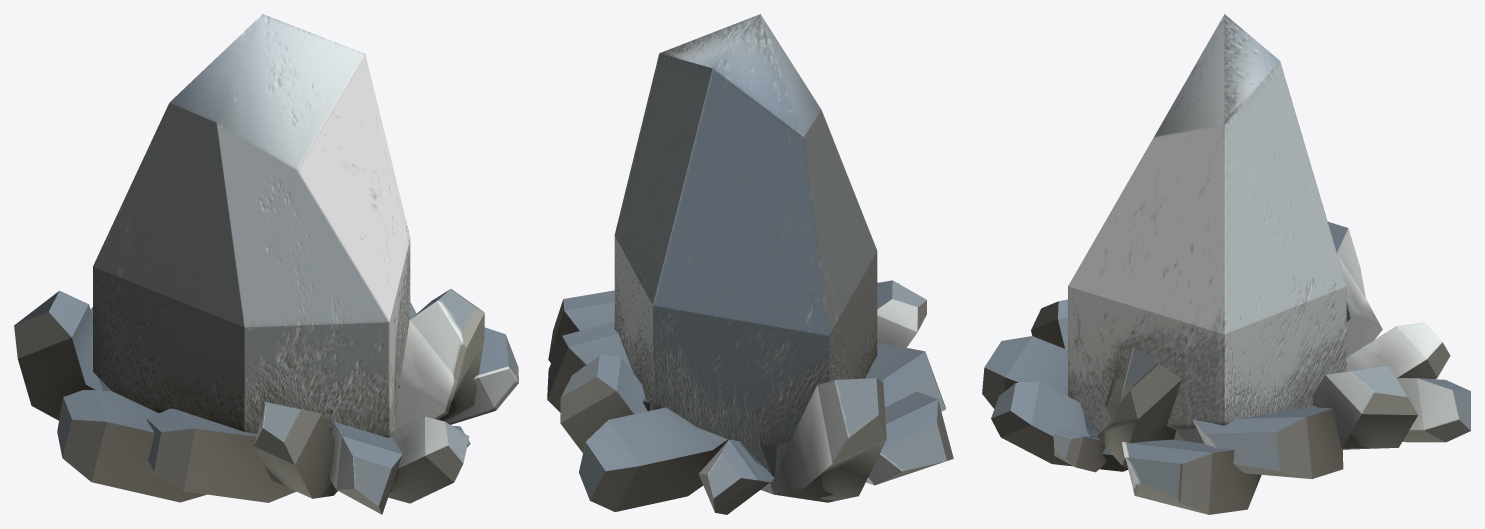
Rendered from CristalesGrandesTexReady.fbx.
The picture shows the model from 3 angles, left to right: view 1: azimuth 30°, elevation 25°; view 2: azimuth 150°, elevation 25°; view 3: azimuth 270°, elevation 25°; orthographic projection. The views are drawn at different scales.
Parts seen in each view (by area): view 1: CristalGrande, CristalBase_4, CristalBase_5, CristalBase_6, CristalBase_11, CristalBase_10, CristalBase_8, CristalBase_9, CristalBase_3; view 2: CristalGrande, CristalBase_11, CristalBase_13, CristalBase_1, CristalBase_5, CristalBase_12, CristalBase_2, CristalBase_6, CristalBase_10, CristalBase_3; view 3: CristalGrande, CristalBase_3, CristalBase_2, CristalBase_1, CristalBase_8, CristalBase_4, CristalBase_9, CristalBase_12, CristalBase_13, CristalBase_11, CristalBase_7, CristalBase_10.
Part boxes in pixels (x1,y1,x2,y2): CristalGrande: (93,14,410,438); CristalBase_4: (397,289,484,429); CristalBase_5: (57,390,206,502); CristalBase_6: (146,408,296,502); CristalBase_11: (14,290,111,420); CristalBase_10: (254,402,337,498); CristalBase_8: (388,416,469,503); CristalBase_9: (329,421,402,514); CristalBase_3: (446,327,518,424); CristalGrande: (614,14,877,481); CristalBase_11: (761,378,886,502); CristalBase_13: (579,407,727,511); CristalBase_1: (560,355,647,452); CristalBase_5: (866,391,953,485); CristalBase_12: (698,439,774,514); CristalBase_2: (547,322,649,412); CristalBase_6: (865,342,945,411); CristalBase_10: (877,280,926,347); CristalBase_3: (548,290,614,362); CristalGrande: (1068,14,1346,443); CristalBase_3: (1122,439,1261,514); CristalBase_2: (1193,405,1343,478); CristalBase_1: (1312,365,1417,449); CristalBase_8: (991,381,1128,471); CristalBase_4: (1097,347,1182,468); CristalBase_9: (982,336,1082,408); CristalBase_12: (1346,322,1450,379); CristalBase_13: (1396,378,1470,442); CristalBase_11: (1328,221,1382,356); CristalBase_7: (1053,429,1107,472); CristalBase_10: (1031,299,1067,349).
Bounding box in the file's own units: 2.89 × 2.91 × 2.97.
